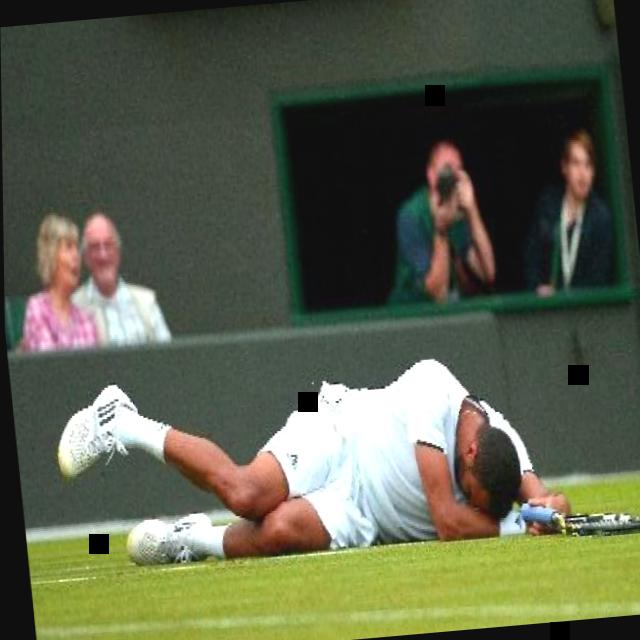Fall-Detected: (58, 324, 572, 582)
